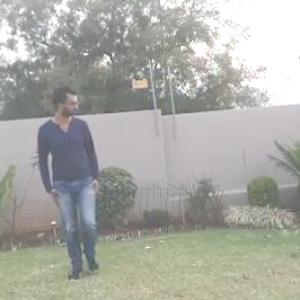follow: (43, 81, 104, 281)
